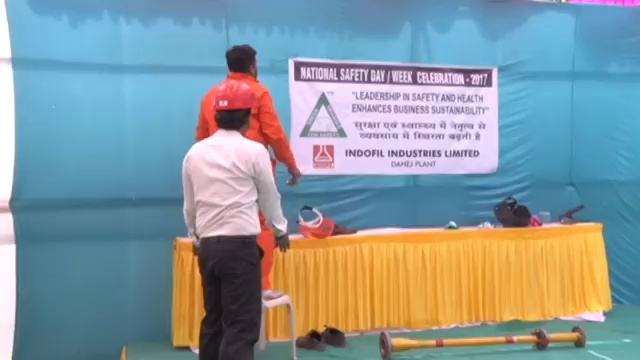helmet: (212, 81, 258, 112)
helmet_off: (226, 43, 261, 82)
helmet_on: (212, 81, 258, 137)
person: (182, 79, 286, 360), (200, 42, 305, 294)
